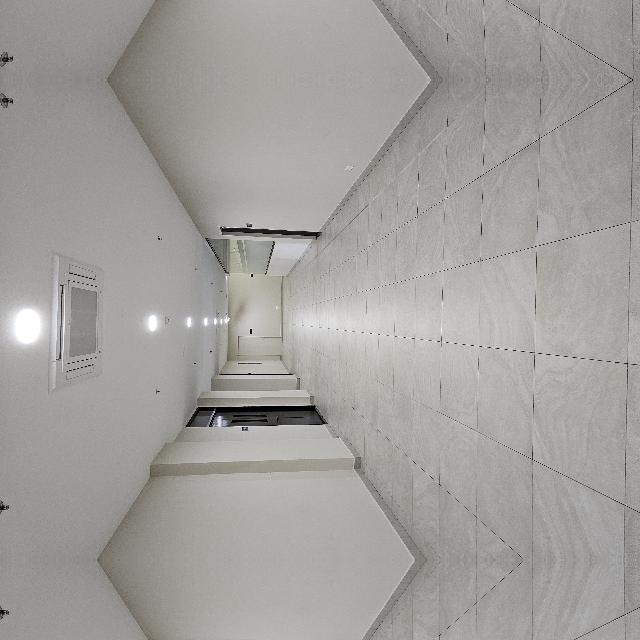door: (120, 268, 170, 414)
